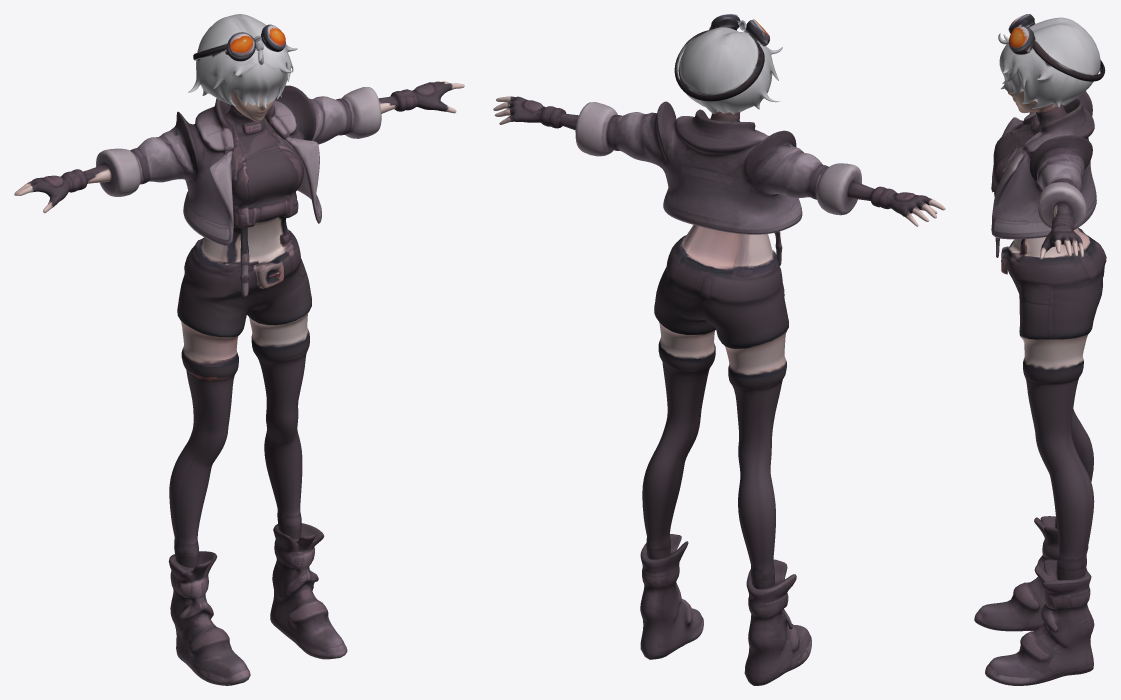
File: Gunner_v2.fbx
3 renders of one model, left to right at view 1: azimuth 30°, elevation 25°; view 2: azimuth 150°, elevation 25°; view 3: azimuth 270°, elevation 25°, orthographic.
Visible parts, largest first — view 1: Gunner_Body; view 2: Gunner_Body; view 3: Gunner_Body.
Part boxes in pixels (<box>): Gunner_Body: <box>14,14,464,685</box>; Gunner_Body: <box>493,14,945,685</box>; Gunner_Body: <box>974,14,1106,685</box>.
Size of the model in its own units: 73.2 by 99.45 by 18.92.
Materials: 1 (1 with a texture image).
